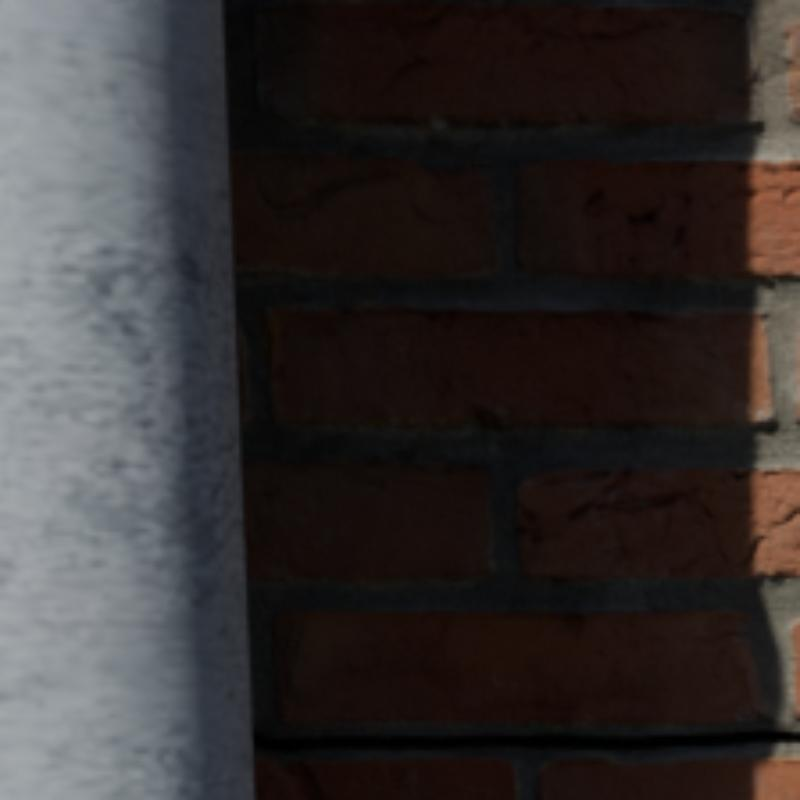crack: (250, 732, 796, 750)
